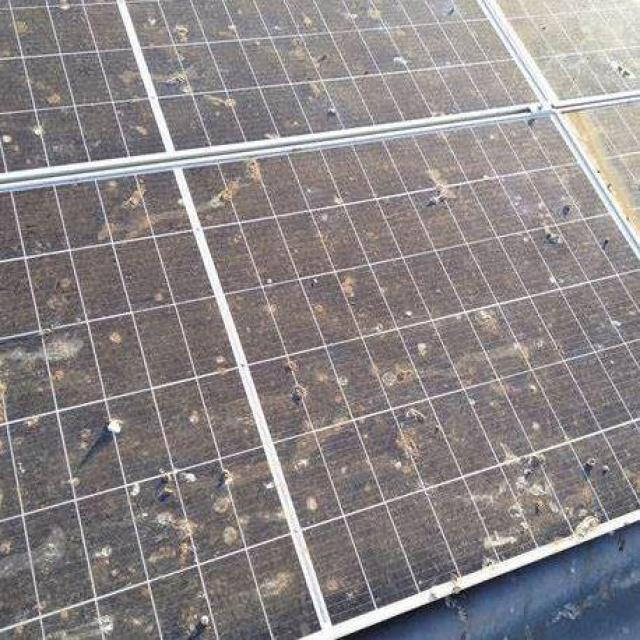soiled: (183, 104, 640, 638), (1, 164, 322, 640), (123, 2, 542, 156), (1, 1, 172, 162)
